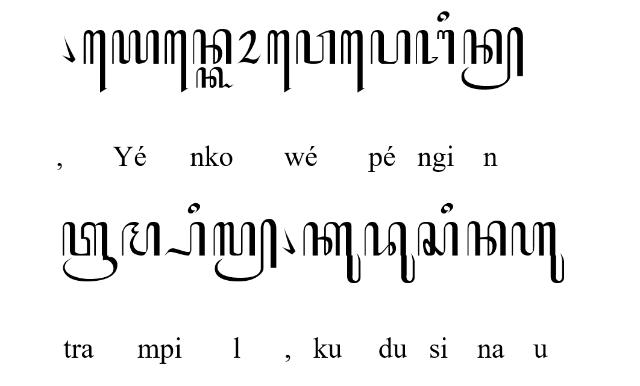-l: (212, 218, 278, 282)
-n: (460, 27, 524, 91)
_k: (196, 66, 234, 90)
_p: (164, 221, 206, 256)
du: (364, 222, 416, 284)
e1: (83, 29, 107, 93), (164, 29, 188, 93), (267, 30, 291, 94), (341, 30, 365, 94)
hu: (512, 222, 564, 284)
i: (436, 10, 449, 23), (441, 203, 454, 215), (188, 203, 200, 215)
kom: (60, 35, 76, 64), (280, 228, 296, 256)
ku: (303, 222, 362, 284)
m: (121, 221, 161, 256)
n: (192, 29, 232, 65), (466, 221, 506, 257)
nga: (415, 29, 455, 64)
o: (237, 29, 261, 64)
p: (371, 28, 412, 64)
s: (418, 222, 458, 258)
tr: (61, 222, 117, 282)
w: (296, 29, 336, 64)
y: (111, 29, 159, 64)
